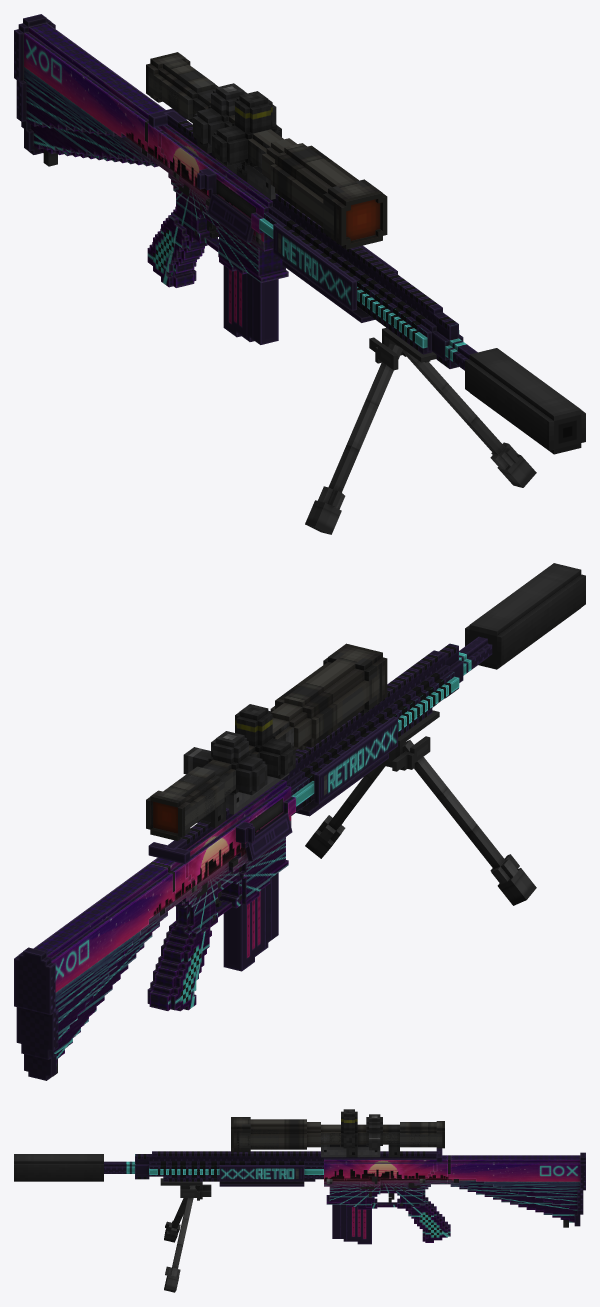
Rendered from RD_M110_RETRO.glb.
3 renders of one model, top to bottom at view 1: azimuth 30°, elevation 25°; view 2: azimuth 150°, elevation 25°; view 3: azimuth 270°, elevation 25°, orthographic. The views are drawn at different scales.
Parts seen in each view (by area): view 1: M110, SCOPE_NIGHTFORCE, SILENCER_8X8, SCOPE_LEUPOLD, M110_CLIP, DIPOD2_LEG1, DIPOD2_LEG2, DIPOD2; view 2: M110, SCOPE_NIGHTFORCE, SCOPE_LEUPOLD, SILENCER_8X8, M110_CLIP, DIPOD2_LEG1, DIPOD2_LEG2, DIPOD2; view 3: M110, SCOPE_NIGHTFORCE, SCOPE_LEUPOLD, SILENCER_8X8, M110_CLIP, DIPOD2_LEG2, DIPOD2, DIPOD2_LEG1.
Boxes of the visible parts, box(x1,y1,x2,y2) form: M110: box(14, 14, 477, 370); SCOPE_NIGHTFORCE: box(146, 52, 387, 249); SILENCER_8X8: box(465, 348, 585, 454); SCOPE_LEUPOLD: box(146, 59, 371, 245); M110_CLIP: box(223, 265, 278, 344); DIPOD2_LEG1: box(305, 343, 402, 534); DIPOD2_LEG2: box(399, 346, 536, 487); DIPOD2: box(369, 327, 436, 370); M110: box(14, 636, 492, 1080); SCOPE_NIGHTFORCE: box(146, 643, 387, 840); SCOPE_LEUPOLD: box(150, 651, 382, 840); SILENCER_8X8: box(465, 563, 585, 669); M110_CLIP: box(223, 873, 278, 971); DIPOD2_LEG1: box(402, 740, 536, 905); DIPOD2_LEG2: box(305, 765, 385, 858); DIPOD2: box(380, 710, 439, 771); M110: box(104, 1151, 585, 1242); SCOPE_NIGHTFORCE: box(231, 1114, 444, 1157); SCOPE_LEUPOLD: box(236, 1109, 444, 1157); SILENCER_8X8: box(14, 1154, 103, 1181); M110_CLIP: box(332, 1204, 371, 1244); DIPOD2_LEG2: box(164, 1186, 195, 1292); DIPOD2: box(160, 1178, 211, 1200); DIPOD2_LEG1: box(164, 1185, 195, 1242).
Size of the model in its own units: 0.4782 by 0.6015 by 2.
Materials: 5 (5 with a texture image).
